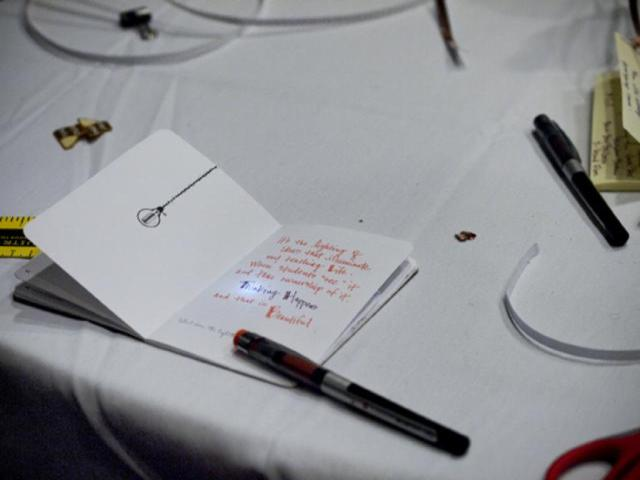PEN: (224, 328, 486, 462), (521, 107, 640, 264)
